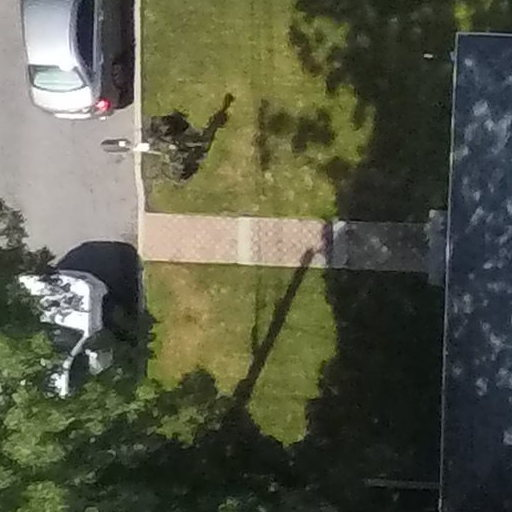car: (1, 227, 144, 411), (14, 1, 137, 126)
